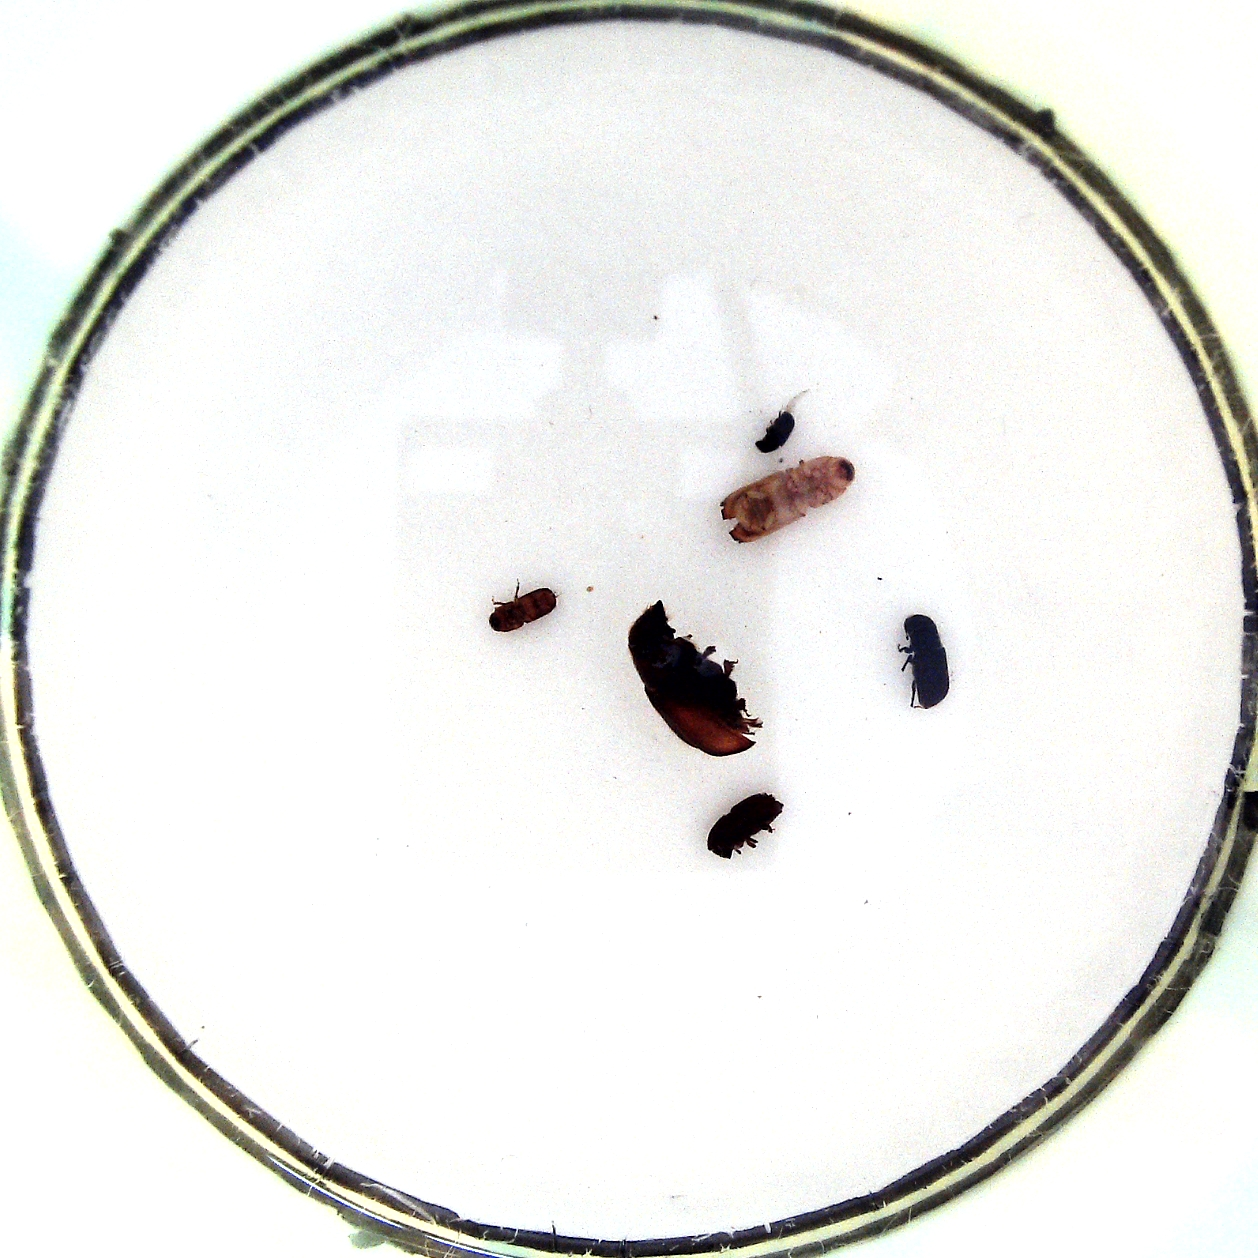Boerner: (718, 453, 852, 545)
Leconte: (626, 601, 770, 760)
Linnaeus: (702, 791, 794, 865)
acuminatus: (487, 579, 561, 635)
armandi: (895, 615, 952, 712)
coleoptera: (748, 393, 799, 455)
